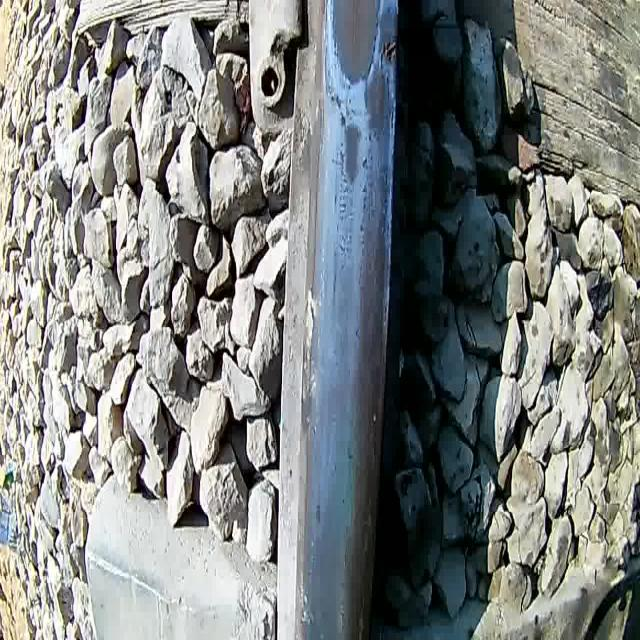Squats: (328, 0, 385, 90), (327, 88, 365, 190), (362, 62, 397, 152), (376, 0, 402, 70)
